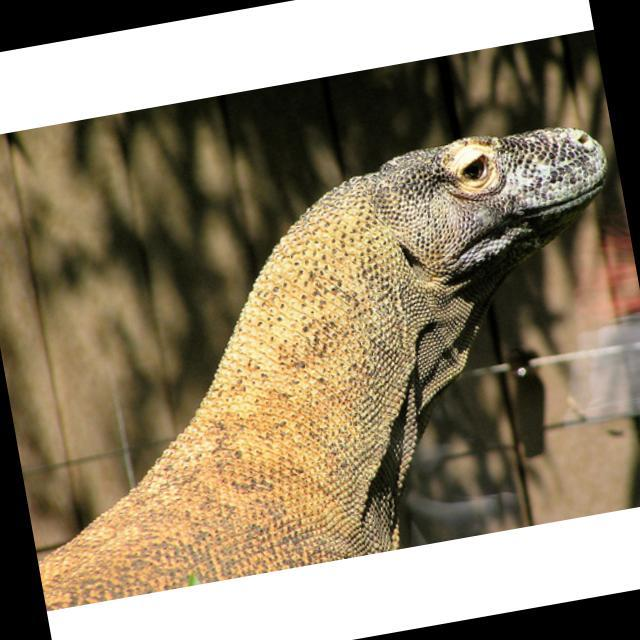KomodoDragon: (0, 111, 640, 609)
